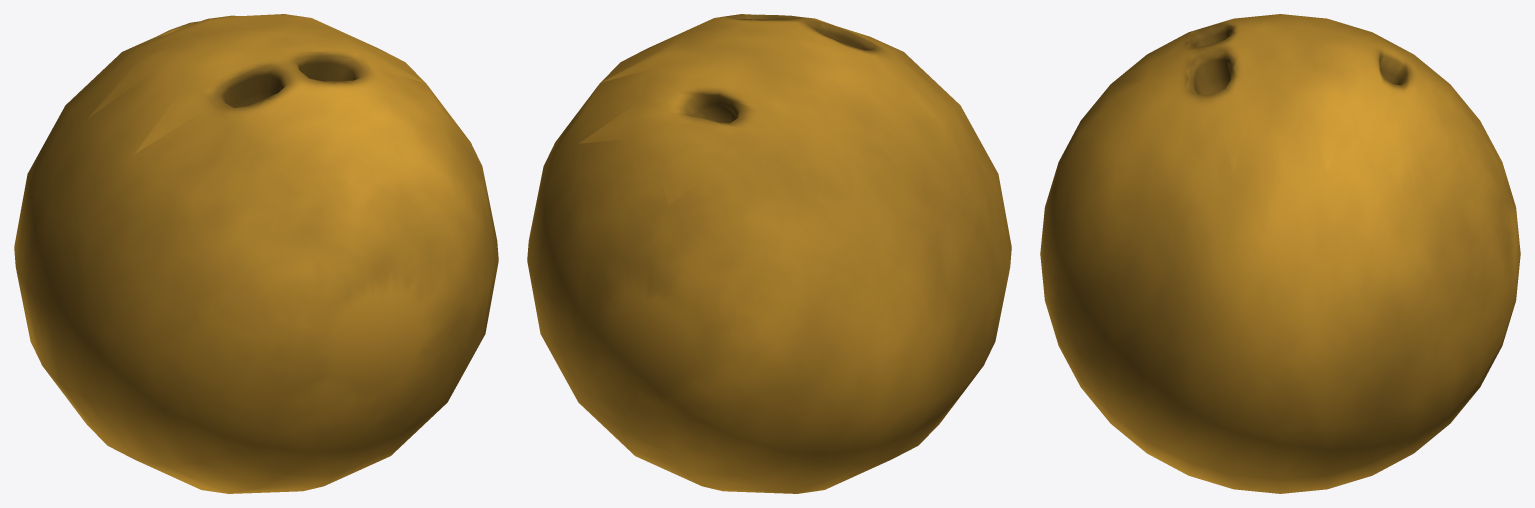
Rendered from Bowling_ball.fbx.
3 renders of one model, left to right at view 1: azimuth 30°, elevation 25°; view 2: azimuth 150°, elevation 25°; view 3: azimuth 270°, elevation 25°, orthographic.
Parts seen in each view (by area): view 1: pSphere1; view 2: pSphere1; view 3: pSphere1.
Boxes of the visible parts, bbox=[...] form: pSphere1: bbox=[14, 14, 498, 493]; pSphere1: bbox=[527, 14, 1011, 493]; pSphere1: bbox=[1040, 14, 1520, 493].
Bounding box in the file's own units: 2 × 1.98 × 2.
